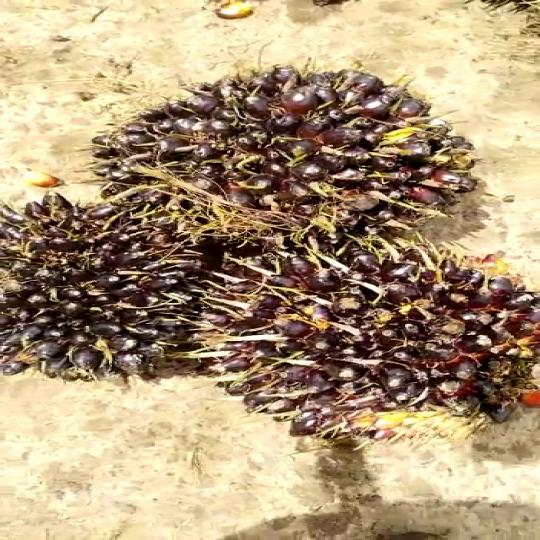mentah: (90, 71, 487, 242), (199, 236, 526, 420), (0, 183, 178, 402)
